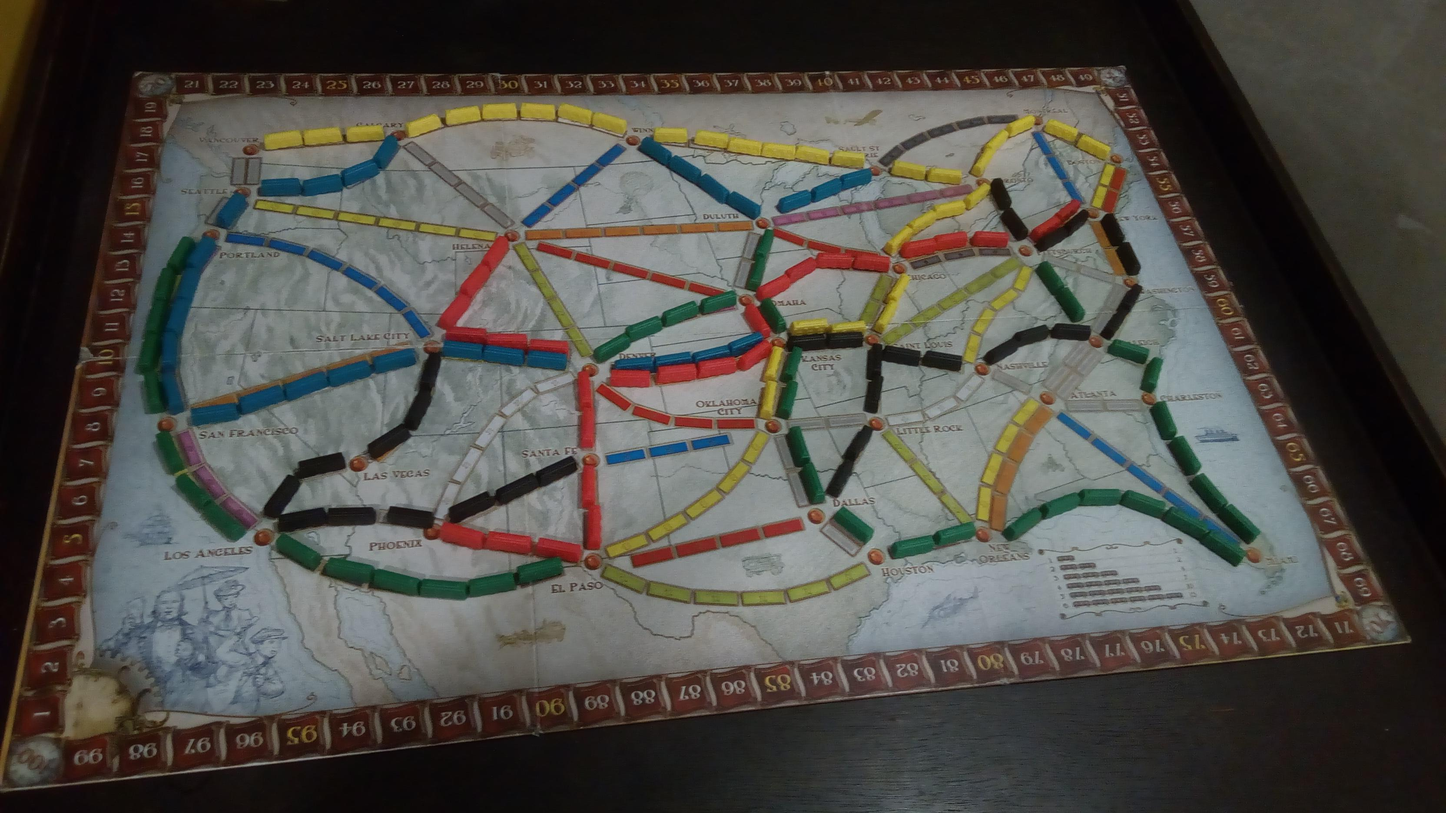black_train: (263, 475, 300, 518), (368, 425, 410, 459), (448, 492, 495, 522), (296, 452, 346, 479), (495, 473, 537, 503), (278, 507, 327, 532), (536, 456, 577, 485), (383, 506, 434, 529), (403, 391, 432, 431), (842, 428, 875, 461), (826, 459, 853, 497), (327, 506, 376, 525), (1000, 208, 1028, 240), (1100, 308, 1128, 340), (1036, 226, 1070, 252), (984, 339, 1019, 364), (419, 354, 442, 391), (1116, 241, 1141, 275), (1100, 213, 1125, 246), (882, 345, 921, 366), (922, 351, 962, 371), (1116, 284, 1142, 312), (1012, 325, 1050, 344), (863, 377, 883, 412), (1050, 323, 1091, 340), (989, 179, 1011, 210), (786, 333, 826, 350), (826, 331, 864, 348), (1065, 209, 1089, 234), (867, 346, 883, 380)
blue_train: (239, 384, 284, 414), (284, 372, 328, 400), (185, 235, 219, 271), (326, 360, 372, 386), (371, 347, 416, 373), (163, 298, 193, 336), (217, 192, 247, 229), (171, 267, 203, 301), (191, 403, 239, 425), (340, 159, 379, 186), (160, 373, 186, 413), (668, 155, 704, 182), (639, 137, 673, 165), (300, 174, 343, 195), (726, 192, 760, 218), (482, 344, 524, 365), (159, 331, 179, 375), (697, 174, 728, 202), (373, 136, 399, 169), (728, 332, 764, 355), (526, 350, 567, 370), (443, 340, 483, 360), (259, 178, 302, 196), (810, 178, 842, 202), (777, 191, 812, 212), (693, 345, 735, 362), (838, 169, 873, 188), (614, 355, 655, 370), (655, 352, 692, 368)
green_train: (276, 533, 322, 570), (203, 502, 246, 541), (1201, 530, 1245, 565), (1219, 504, 1259, 541), (1190, 474, 1228, 512), (1163, 507, 1207, 539), (176, 473, 213, 511), (323, 558, 375, 585), (371, 568, 421, 595), (1121, 490, 1169, 518), (834, 508, 873, 542), (156, 431, 186, 475), (1168, 436, 1201, 475), (516, 557, 563, 584), (1004, 507, 1042, 540), (468, 572, 517, 597), (1035, 261, 1066, 297), (799, 462, 825, 504), (136, 328, 160, 373), (934, 521, 974, 548), (593, 334, 630, 363), (1150, 402, 1177, 441), (1107, 339, 1149, 364), (889, 536, 934, 559), (419, 578, 468, 599), (786, 427, 811, 468), (1056, 287, 1085, 322), (1041, 493, 1080, 518), (759, 299, 786, 333), (166, 237, 194, 269), (662, 302, 699, 326), (776, 381, 799, 419), (143, 372, 164, 413), (144, 299, 170, 332), (700, 291, 737, 314), (627, 317, 663, 340), (153, 268, 177, 302), (1140, 356, 1162, 393), (1078, 489, 1121, 506), (746, 255, 766, 291), (782, 348, 803, 381), (753, 229, 774, 258)
red_train: (459, 262, 491, 300), (440, 522, 485, 549), (534, 537, 582, 562), (484, 531, 533, 554), (738, 341, 776, 370), (438, 296, 471, 329), (744, 300, 771, 338), (480, 236, 509, 270), (1029, 215, 1064, 242), (756, 274, 792, 300), (608, 367, 651, 387), (657, 364, 697, 384), (699, 356, 736, 377), (584, 506, 602, 549), (900, 238, 937, 258), (580, 465, 597, 507), (446, 326, 487, 343), (786, 258, 816, 281), (486, 333, 528, 349), (580, 407, 596, 449), (934, 231, 968, 250), (813, 253, 853, 269), (578, 369, 593, 411), (852, 254, 889, 271), (530, 340, 568, 356), (971, 231, 1009, 247), (1054, 199, 1080, 221)
yellow_train: (1075, 135, 1111, 159), (406, 114, 443, 137), (1044, 119, 1079, 143), (883, 227, 914, 254), (592, 112, 626, 135), (558, 103, 593, 125), (873, 301, 897, 333), (264, 130, 302, 150), (789, 318, 829, 337), (758, 381, 778, 419), (763, 347, 785, 381), (964, 182, 990, 210), (303, 127, 343, 145), (445, 106, 481, 126), (346, 125, 386, 142), (970, 149, 994, 177), (982, 129, 1010, 153), (693, 130, 730, 148), (891, 161, 926, 180), (520, 102, 556, 120), (886, 274, 910, 301), (1005, 115, 1035, 136), (796, 145, 829, 164), (481, 103, 517, 120), (728, 137, 762, 155), (832, 150, 866, 168), (926, 167, 962, 184), (908, 211, 937, 231), (762, 142, 796, 159), (932, 201, 967, 217), (653, 128, 687, 143), (829, 321, 866, 334)
